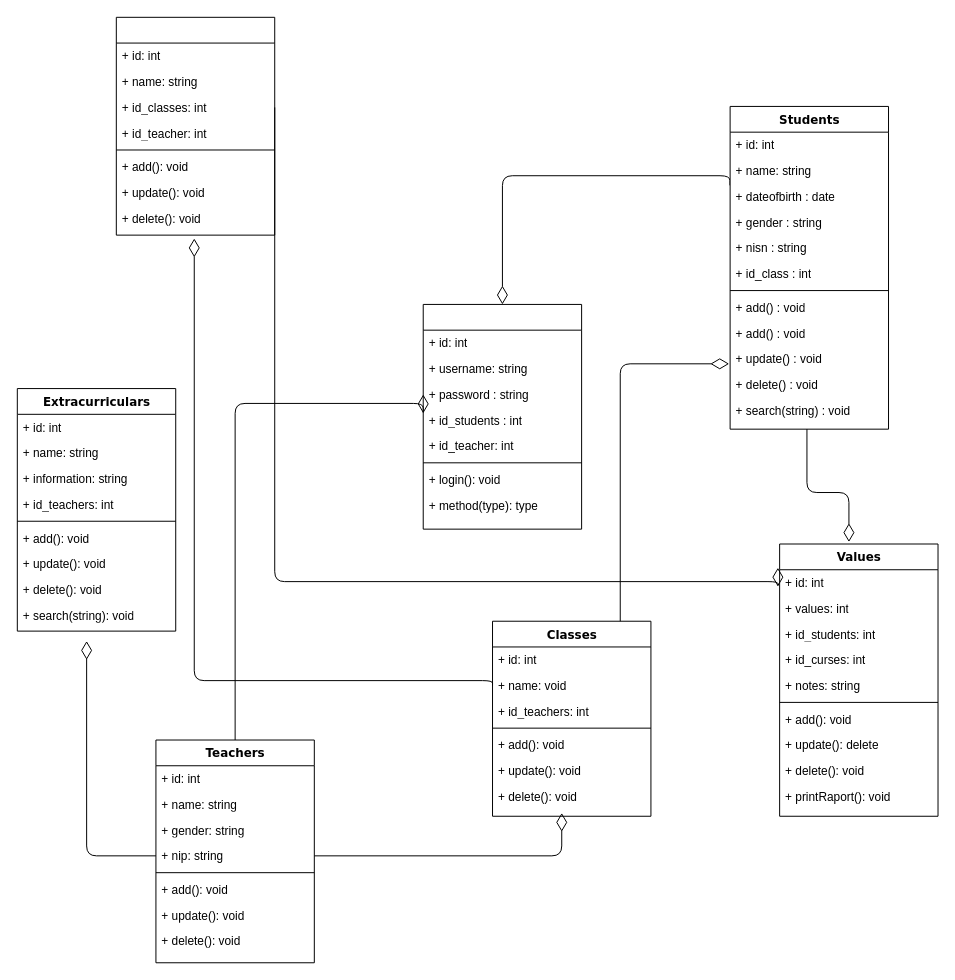
Image size: 955x980. Some labels were removed from this diagram. The box of each missing label's shape, as (x1, y1, x2, y2) in pixels:
Courses: (115, 16, 275, 235)
Users: (422, 303, 582, 529)
